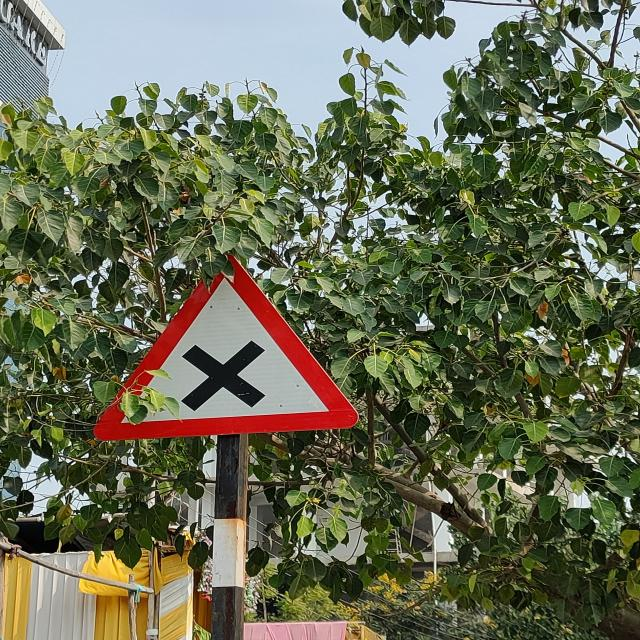cross_road: (93, 257, 370, 441)
